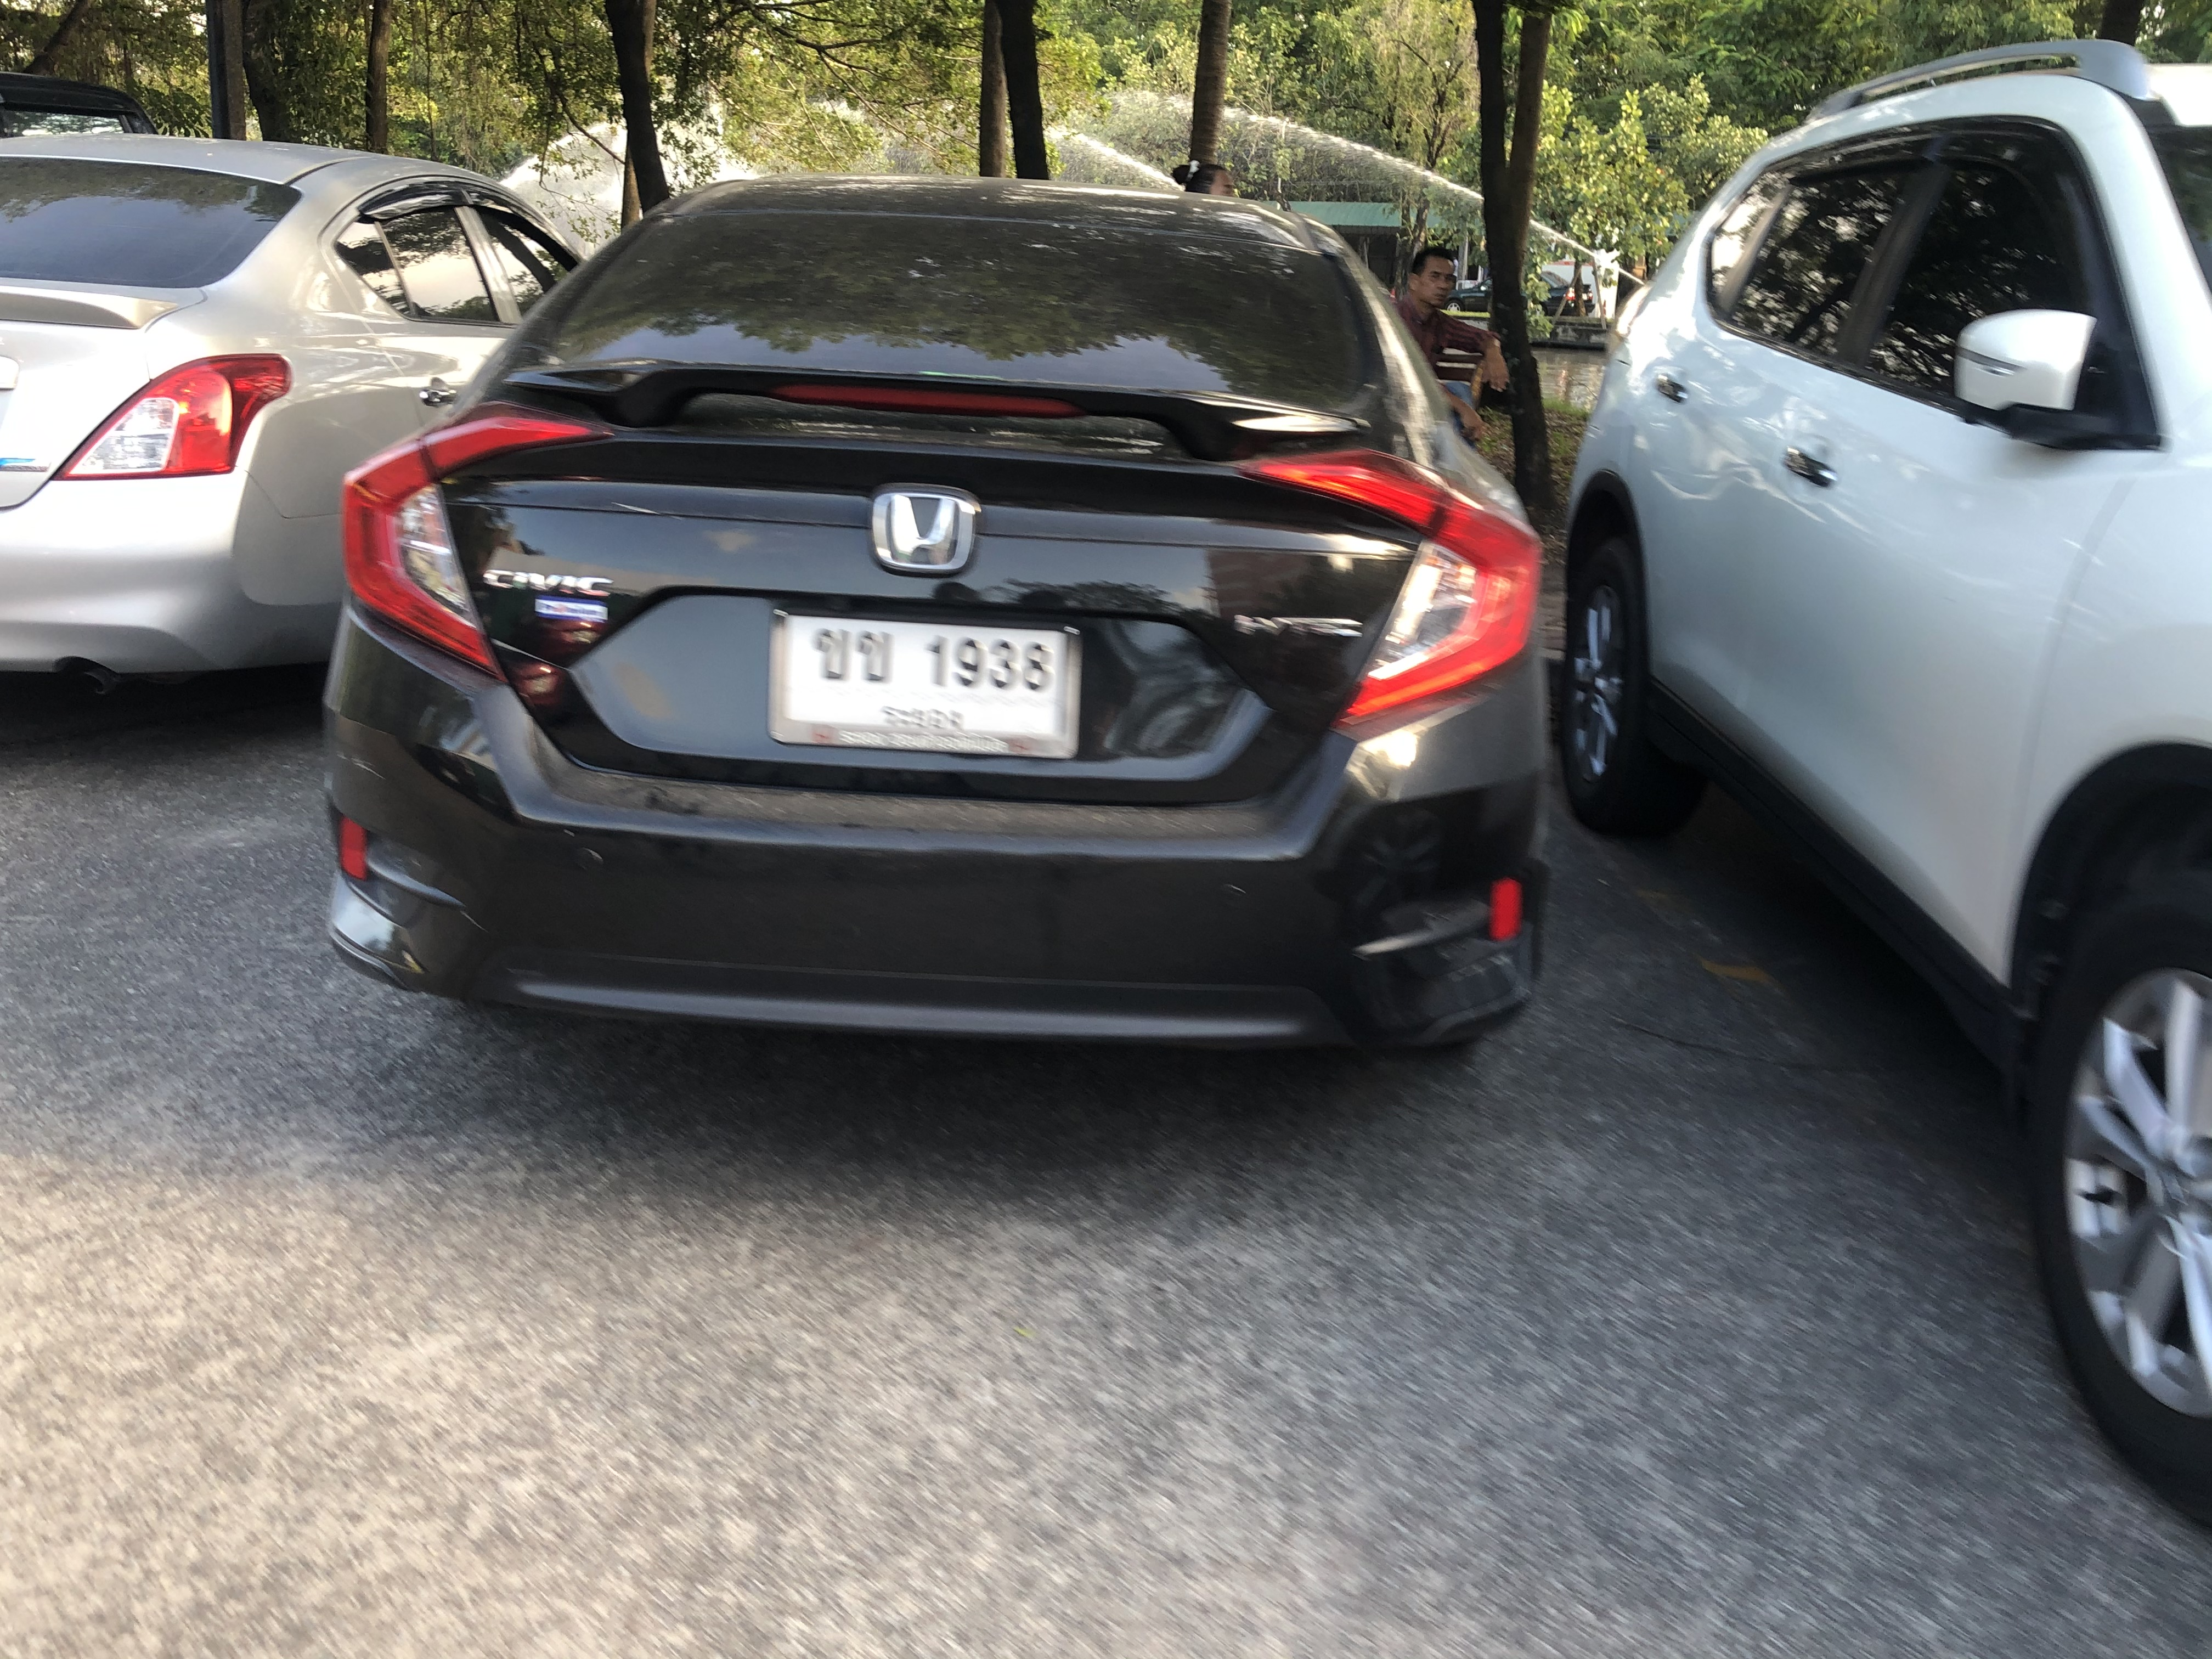in: (789, 615, 1064, 739)
out: (768, 599, 1087, 763)
